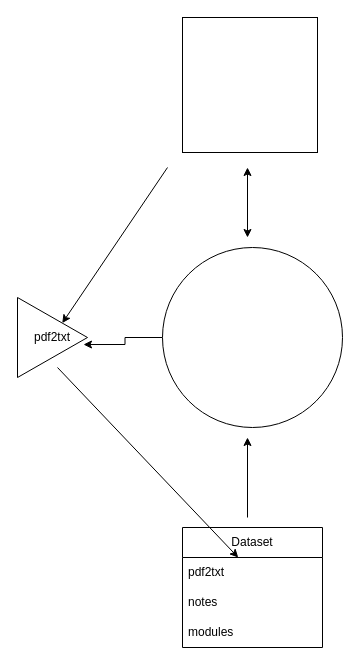
Some shapes in this 360 by 665 pixel diagram are drawn without their labels. Here are the shapes that lost their labels. From the top down, the centre of each, then its label:
(250,84): Data: .pdf files
(252,337): Analyze word frequencies
